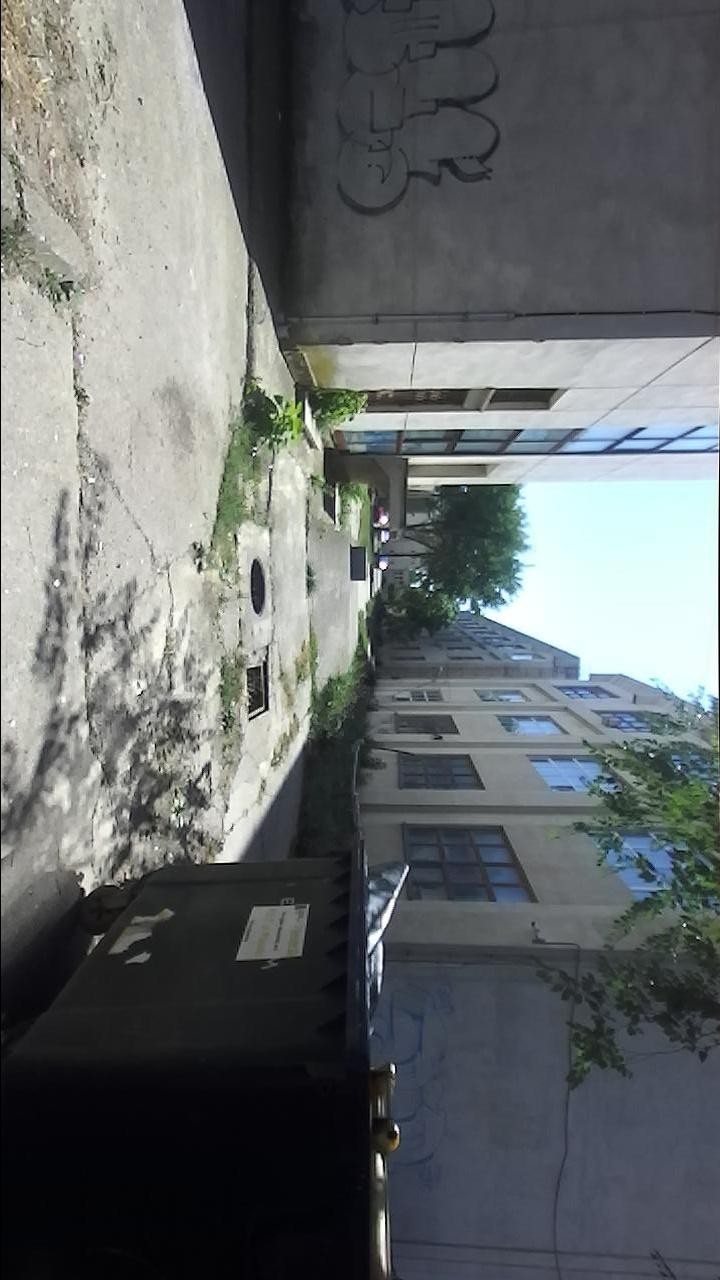drain: (242, 657, 273, 725), (245, 555, 273, 620)
